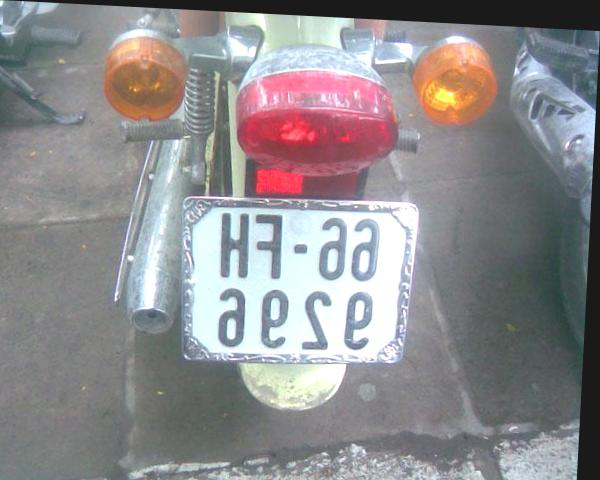License_Plate: (175, 188, 421, 375)
